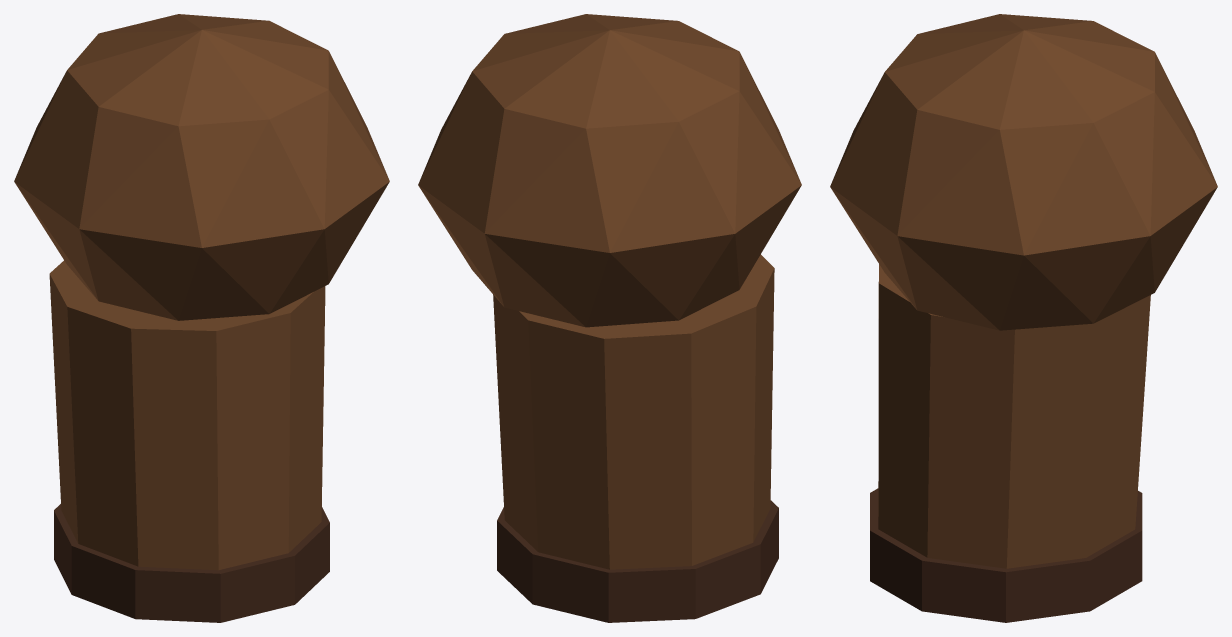
The model's file is gear_hard_body_arm_l.glb.
The picture shows the model from 3 angles, left to right: view 1: azimuth 30°, elevation 25°; view 2: azimuth 150°, elevation 25°; view 3: azimuth 270°, elevation 25°; orthographic projection. The views are drawn at different scales.
Parts seen in each view (by area): view 1: gear_hard_body_arm_l; view 2: gear_hard_body_arm_l; view 3: gear_hard_body_arm_l.
Boxes of the visible parts, x1=… form: gear_hard_body_arm_l: x1=14, y1=14, x2=389, y2=622; gear_hard_body_arm_l: x1=418, y1=14, x2=801, y2=622; gear_hard_body_arm_l: x1=830, y1=14, x2=1217, y2=622.
Bounding box in the file's own units: 0.1707 × 0.267 × 0.1733.
